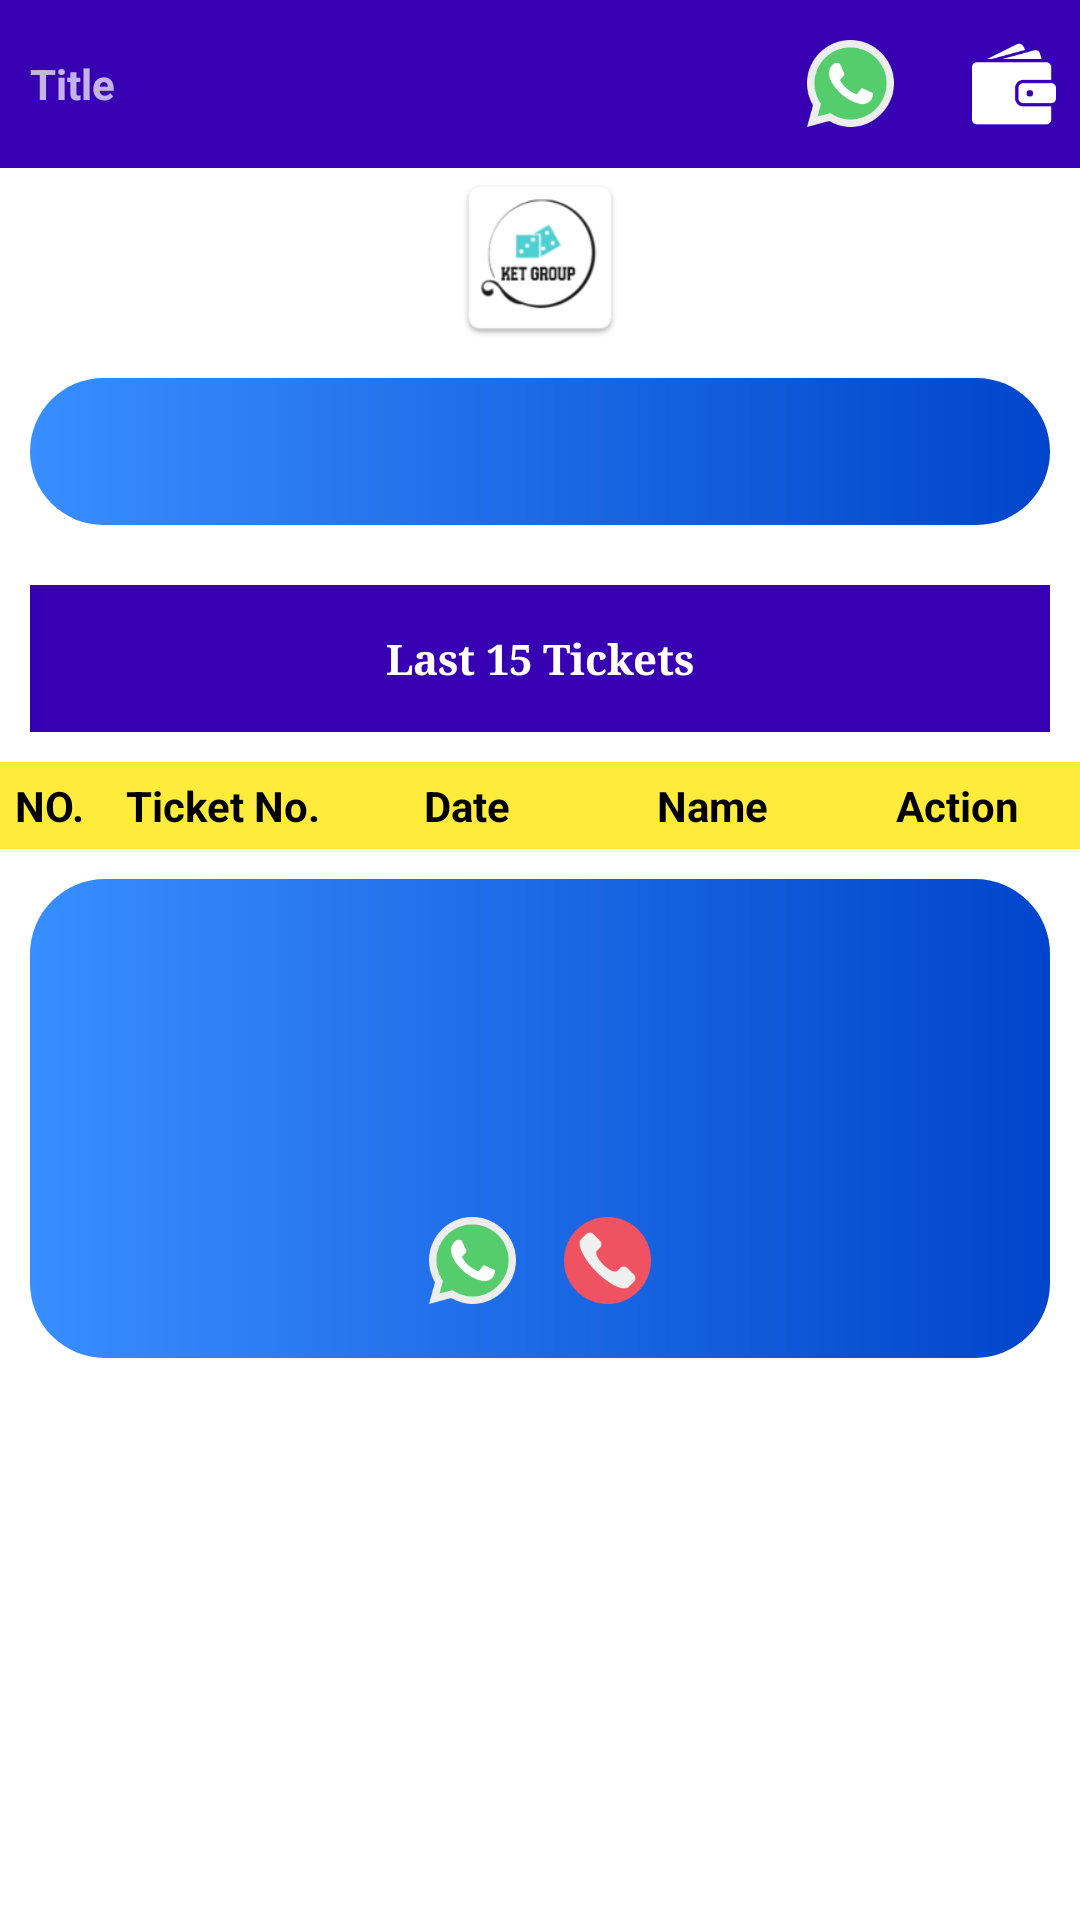

Screen size 1080px x 1920px. Icon name, then its center in pixels as (x,y):
phone call: (607,1260)
